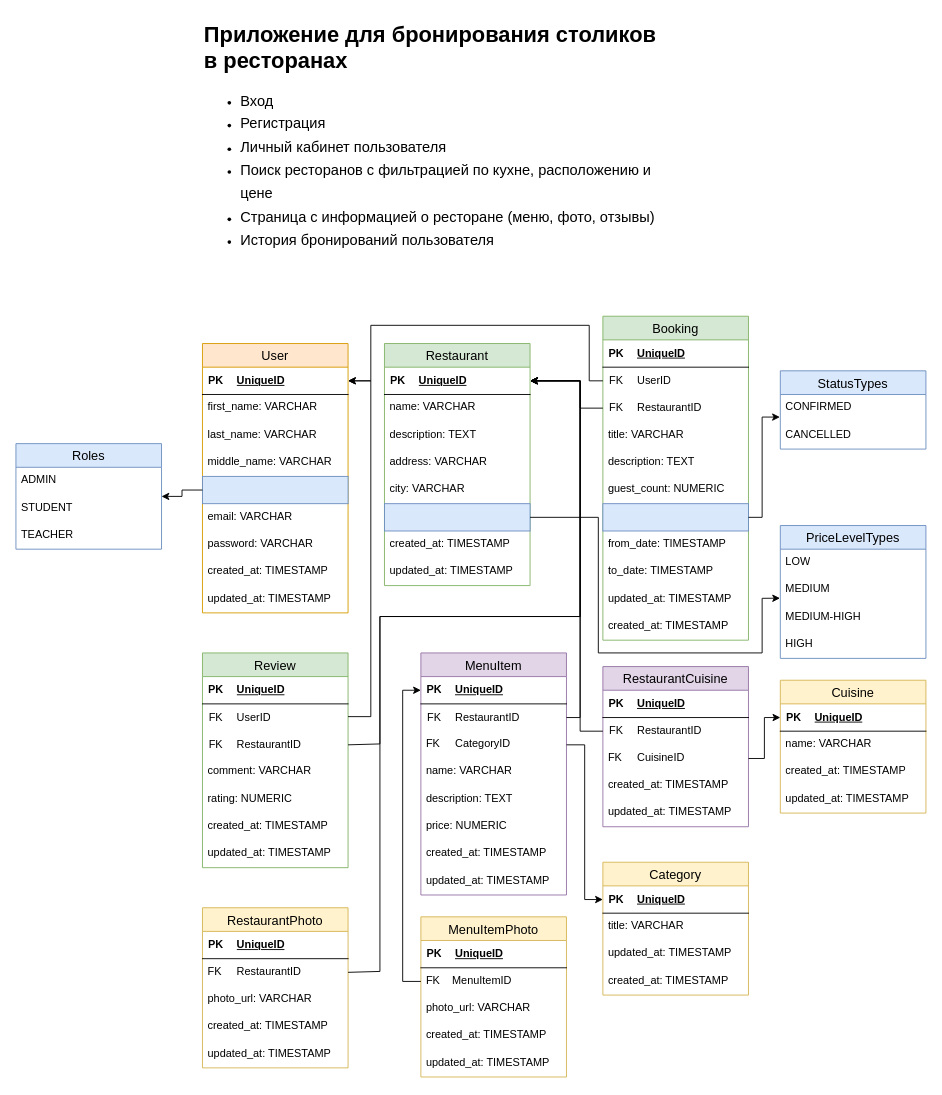
Some shapes in this 942 by 1095 pixel diagram are drawn without their labels. The shapes that lost their labels are listed below. From the top down, each one's centre as x and y in pixels, then its label:
the point at 275,489: role: ENUM
the point at 457,517: price_level: ENUM
the point at 675,517: status: ENUM
